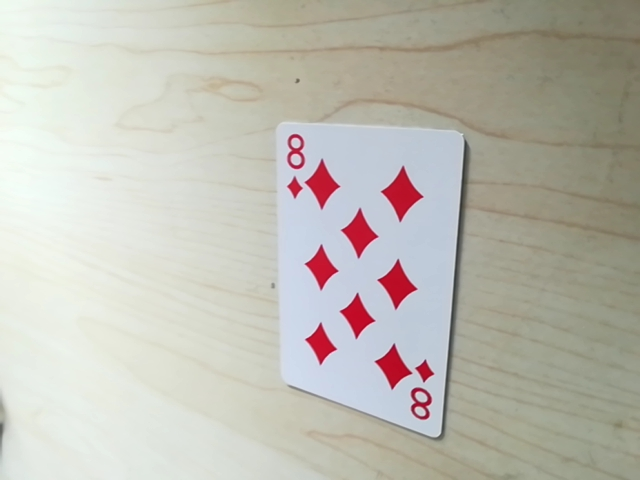fk 8: (403, 367, 438, 429), (277, 129, 315, 183)
